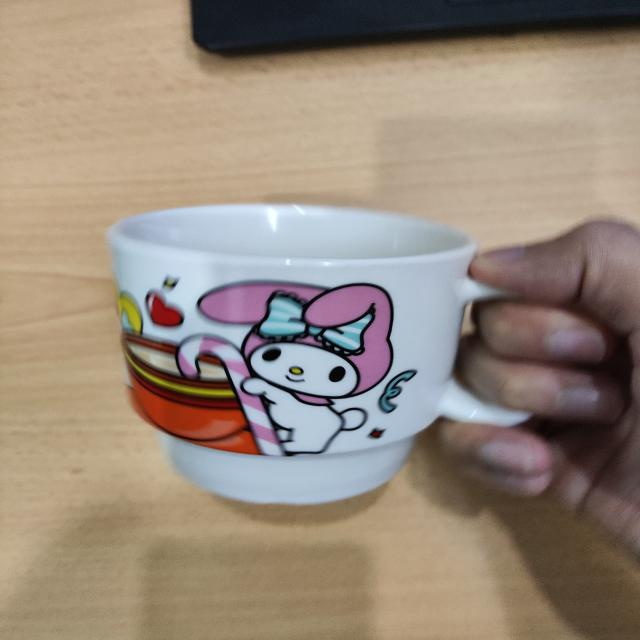cup: (102, 183, 560, 522)
